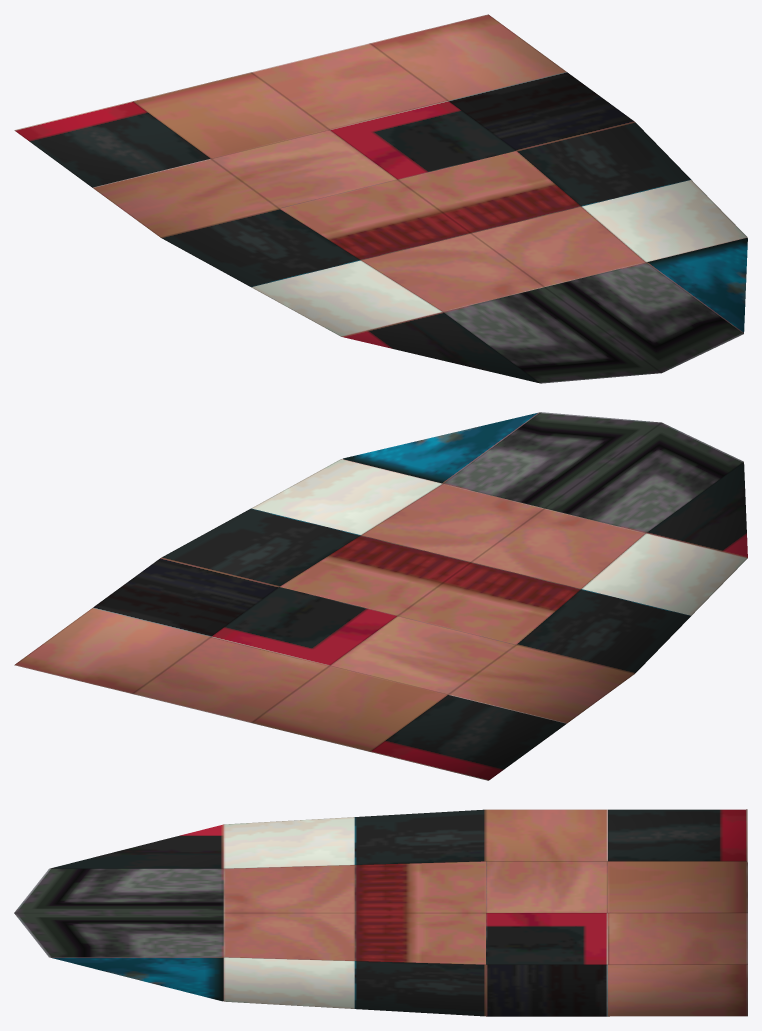
3 renders of one model, top to bottom at view 1: azimuth 30°, elevation 25°; view 2: azimuth 150°, elevation 25°; view 3: azimuth 270°, elevation 25°, orthographic. The views are drawn at different scales.
Parts seen in each view (by area): view 1: T1L1M005_1; view 2: T1L1M005_1; view 3: T1L1M005_1.
Boxes of the visible parts, x1=… form: T1L1M005_1: x1=14, y1=14, x2=747, y2=383; T1L1M005_1: x1=14, y1=412, x2=747, y2=780; T1L1M005_1: x1=14, y1=809, x2=747, y2=1016.
Size of the model in its own units: 2.8 by 0.000977 by 4.2.
